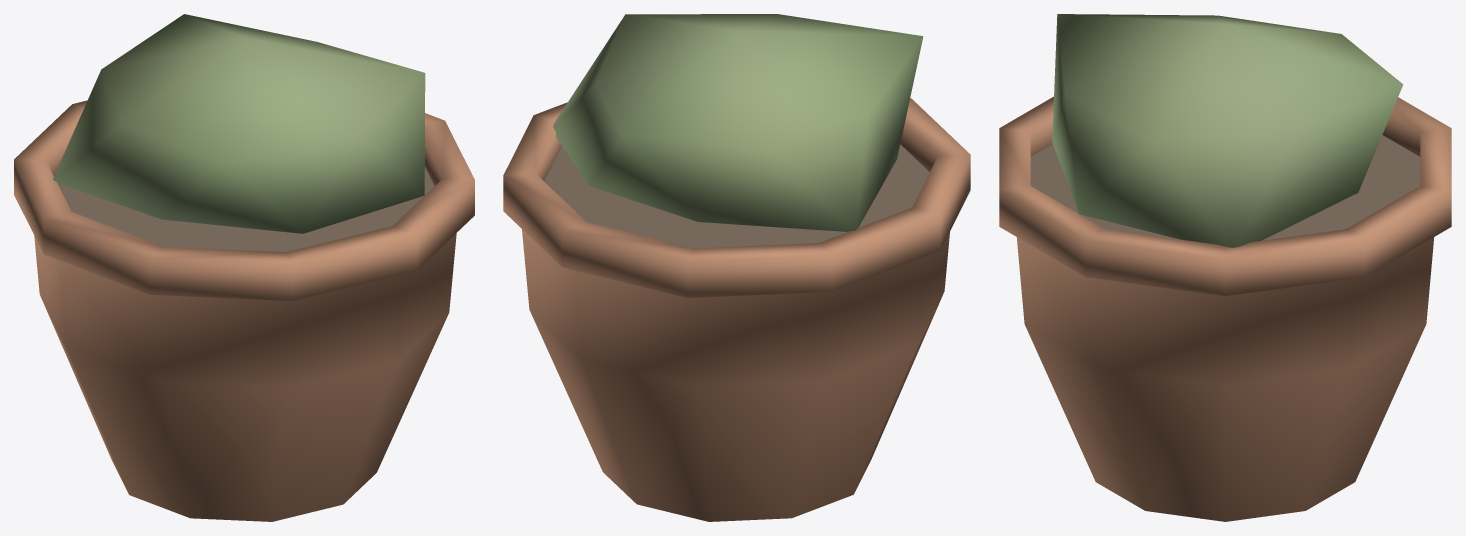
The model's file is SM_BM_BP_PotHerb.glb.
3 renders of one model, left to right at view 1: azimuth 30°, elevation 25°; view 2: azimuth 150°, elevation 25°; view 3: azimuth 270°, elevation 25°, orthographic. The views are drawn at different scales.
Visible parts, largest first — view 1: SM_BM_BP_PotHerb; view 2: SM_BM_BP_PotHerb; view 3: SM_BM_BP_PotHerb.
Part boxes in pixels (<box>): SM_BM_BP_PotHerb: <box>14,14,474,521</box>; SM_BM_BP_PotHerb: <box>503,14,970,521</box>; SM_BM_BP_PotHerb: <box>999,14,1451,521</box>.
Size of the model in its own units: 0.3672 by 0.3752 by 0.3492.
